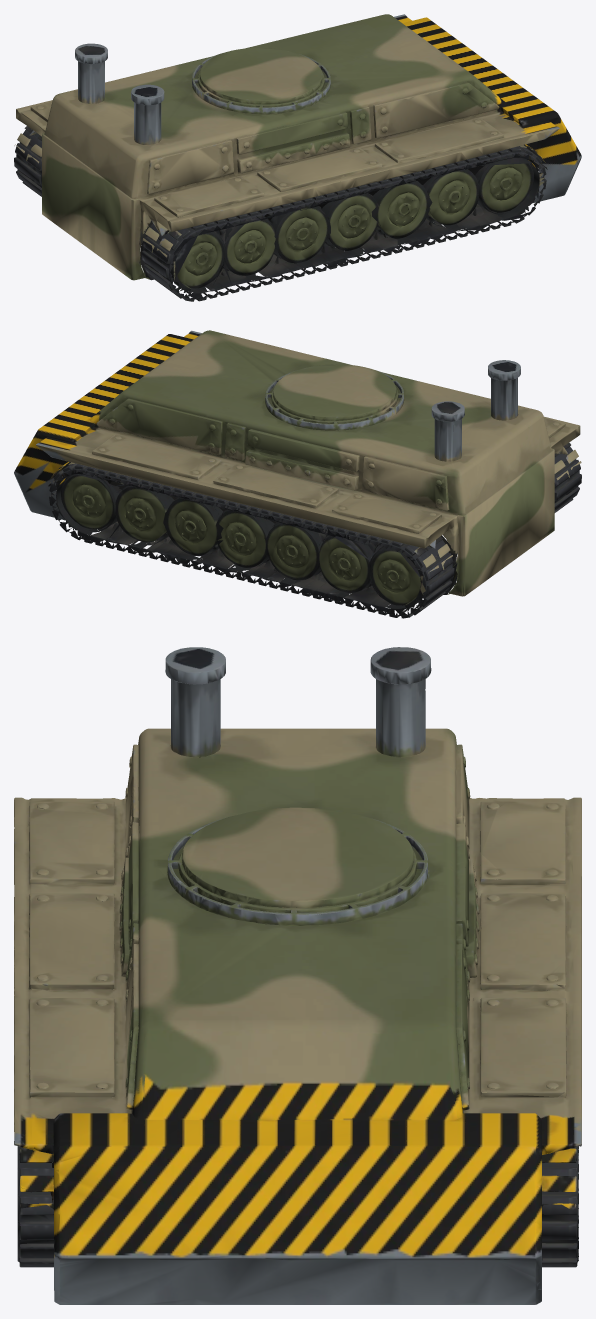
The model's file is chassis-titan-0-full.glb.
3 views of the same model, one above another, from view 1: azimuth 30°, elevation 25°; view 2: azimuth 150°, elevation 25°; view 3: azimuth 270°, elevation 25° (orthographic). The views are drawn at different scales.
Visible parts, largest first — view 1: chassis-titan-0-full; view 2: chassis-titan-0-full; view 3: chassis-titan-0-full.
Boxes of the visible parts, <box> form: chassis-titan-0-full: <box>14,14,581,301</box>; chassis-titan-0-full: <box>14,330,581,618</box>; chassis-titan-0-full: <box>14,647,581,1304</box>.
Size of the model in its own units: 2.94 by 1.15 by 1.84.
1 material, 1 textured.
